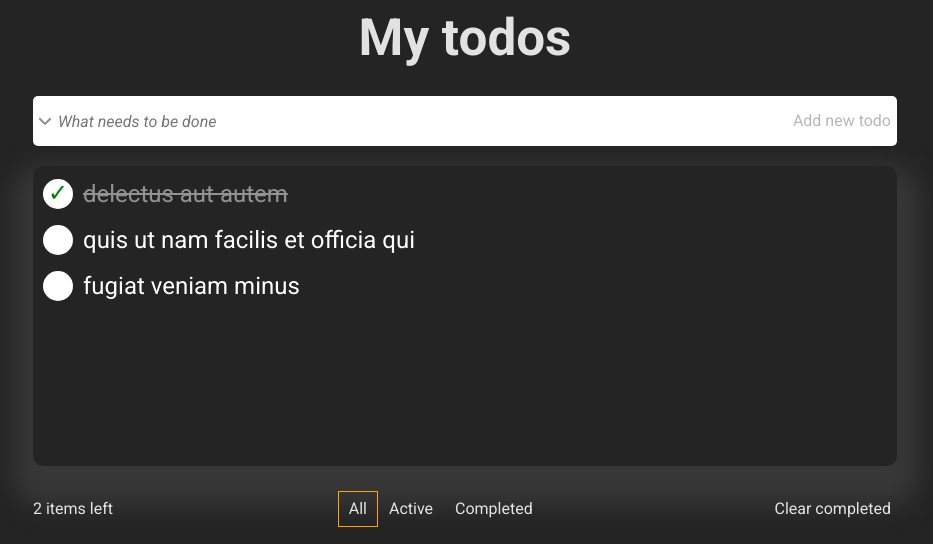
Test: App component › Add todo
Type "test" into the field with test id "text-input".
click(410, 121); type("test")  # box [33,96,788,146]
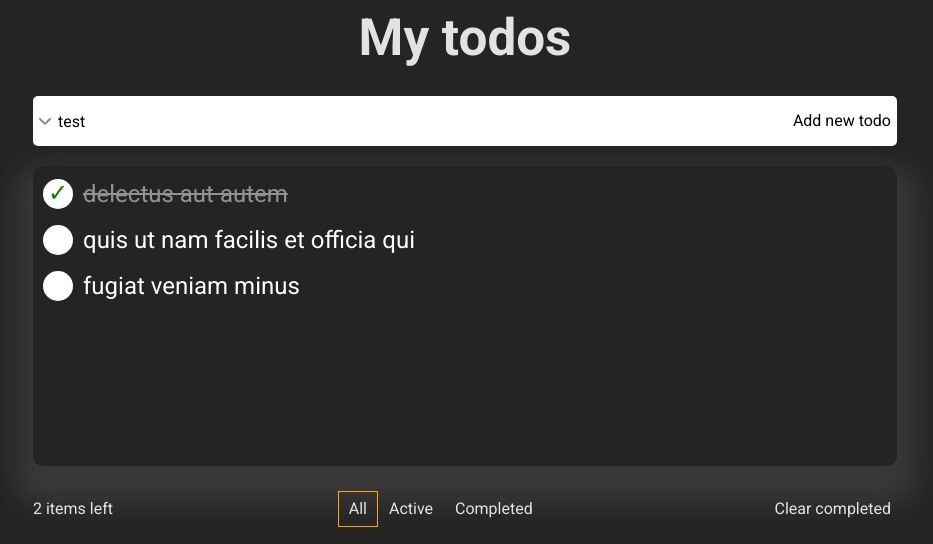
Click the button "Add new todo".
click(842, 121)  # box [787,96,897,146]
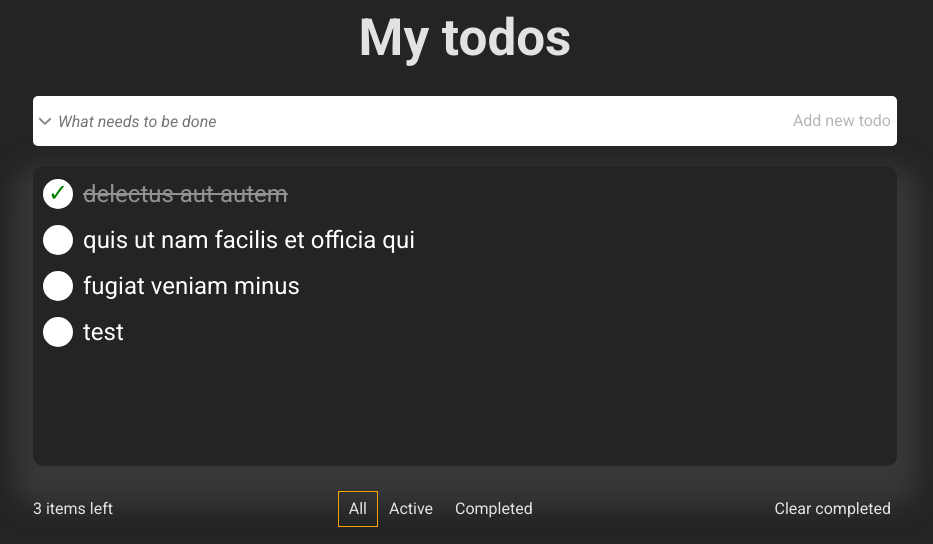
Check: the field with test id "text-input" is empty, box [33,96,788,146]
Check: the element with test id "todo-item" reads "test", box [83,318,124,346]
Check: the number of elements with test id "todo-item" is 4, box [43,179,288,209]; [43,225,415,255]; [43,271,300,301]; [43,317,124,347]
